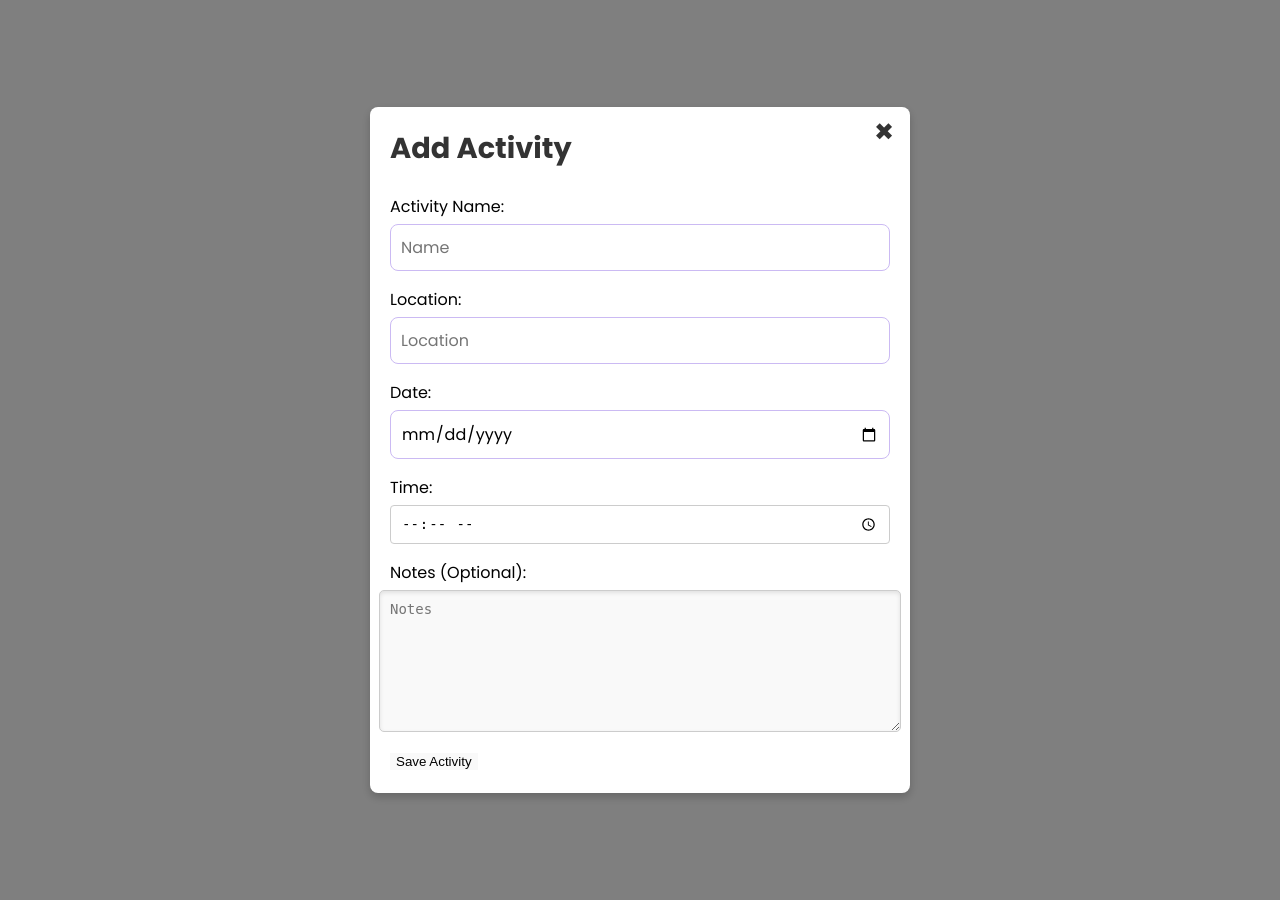
it: AddActivity Component › shows error message when fields are empty and Save is clicked
Click the button "Save Activity" at {"x": 434, "y": 761}, box [390,753,478,770]
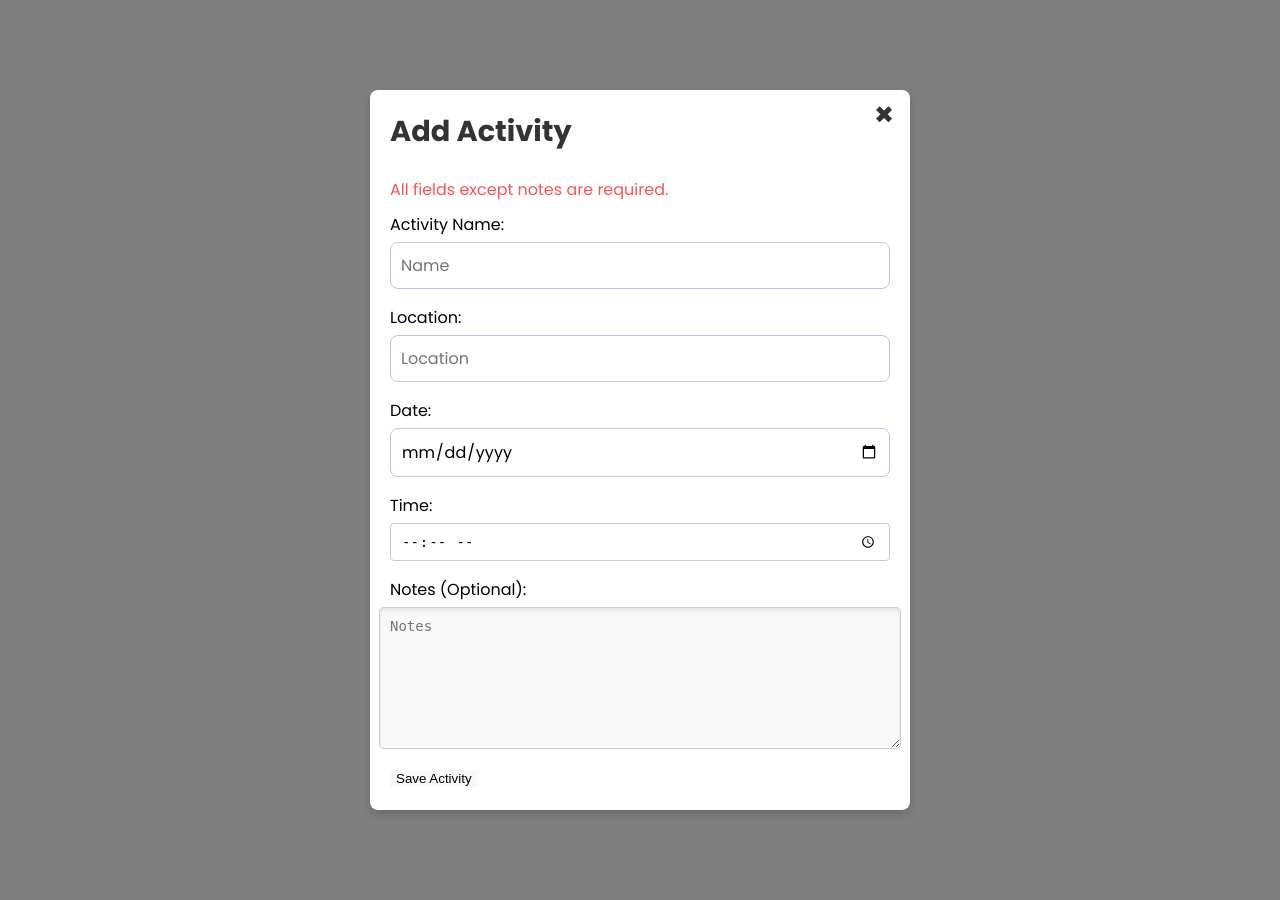
Expected: the text "All fields except notes are required." is shown, [390,178,668,201]
